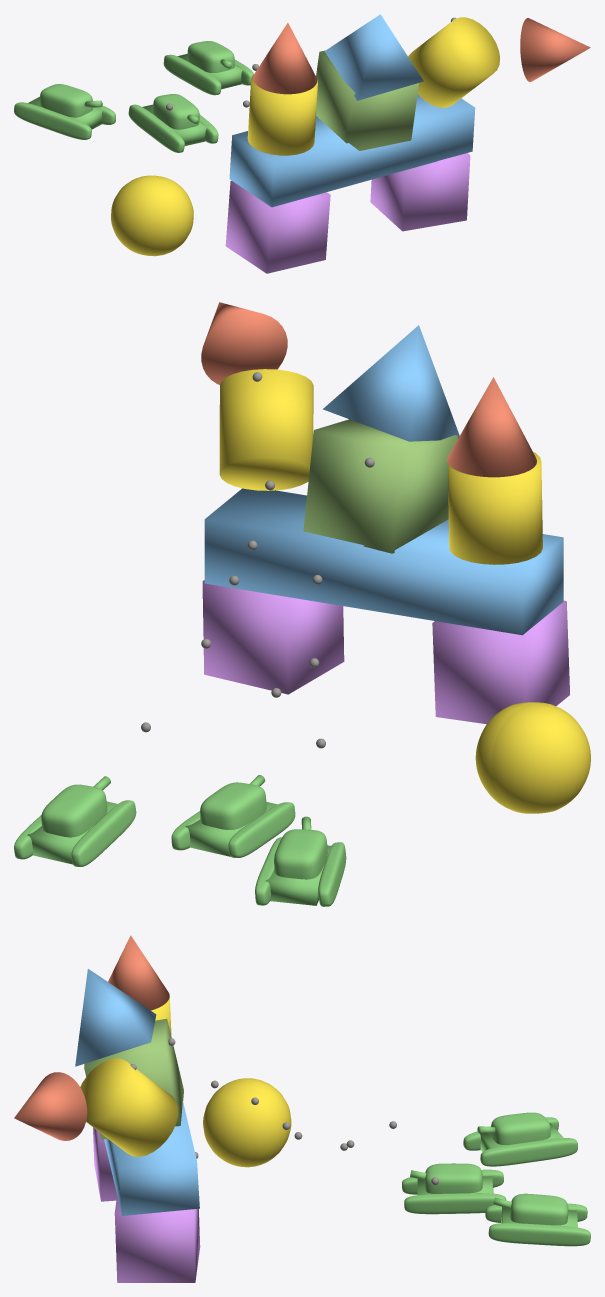
Rendered from toyblockterrorism.glb.
The picture shows the model from 3 angles, top to bottom: view 1: azimuth 30°, elevation 25°; view 2: azimuth 150°, elevation 25°; view 3: azimuth 270°, elevation 25°; orthographic projection. The views are drawn at different scales.
Visible parts, largest first — view 1: toyblockterrorism.001; view 2: toyblockterrorism.001; view 3: toyblockterrorism.001.
Part boxes in pixels (bbox=[...]): toyblockterrorism.001: bbox=[14, 14, 590, 273]; toyblockterrorism.001: bbox=[14, 302, 590, 906]; toyblockterrorism.001: bbox=[14, 935, 590, 1282].
Bounding box in the file's own units: 259 × 171 × 324.
